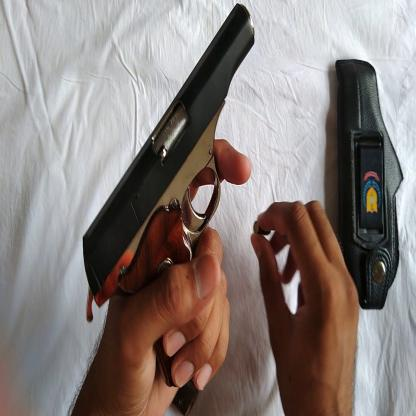handgun: (83, 3, 256, 416)
